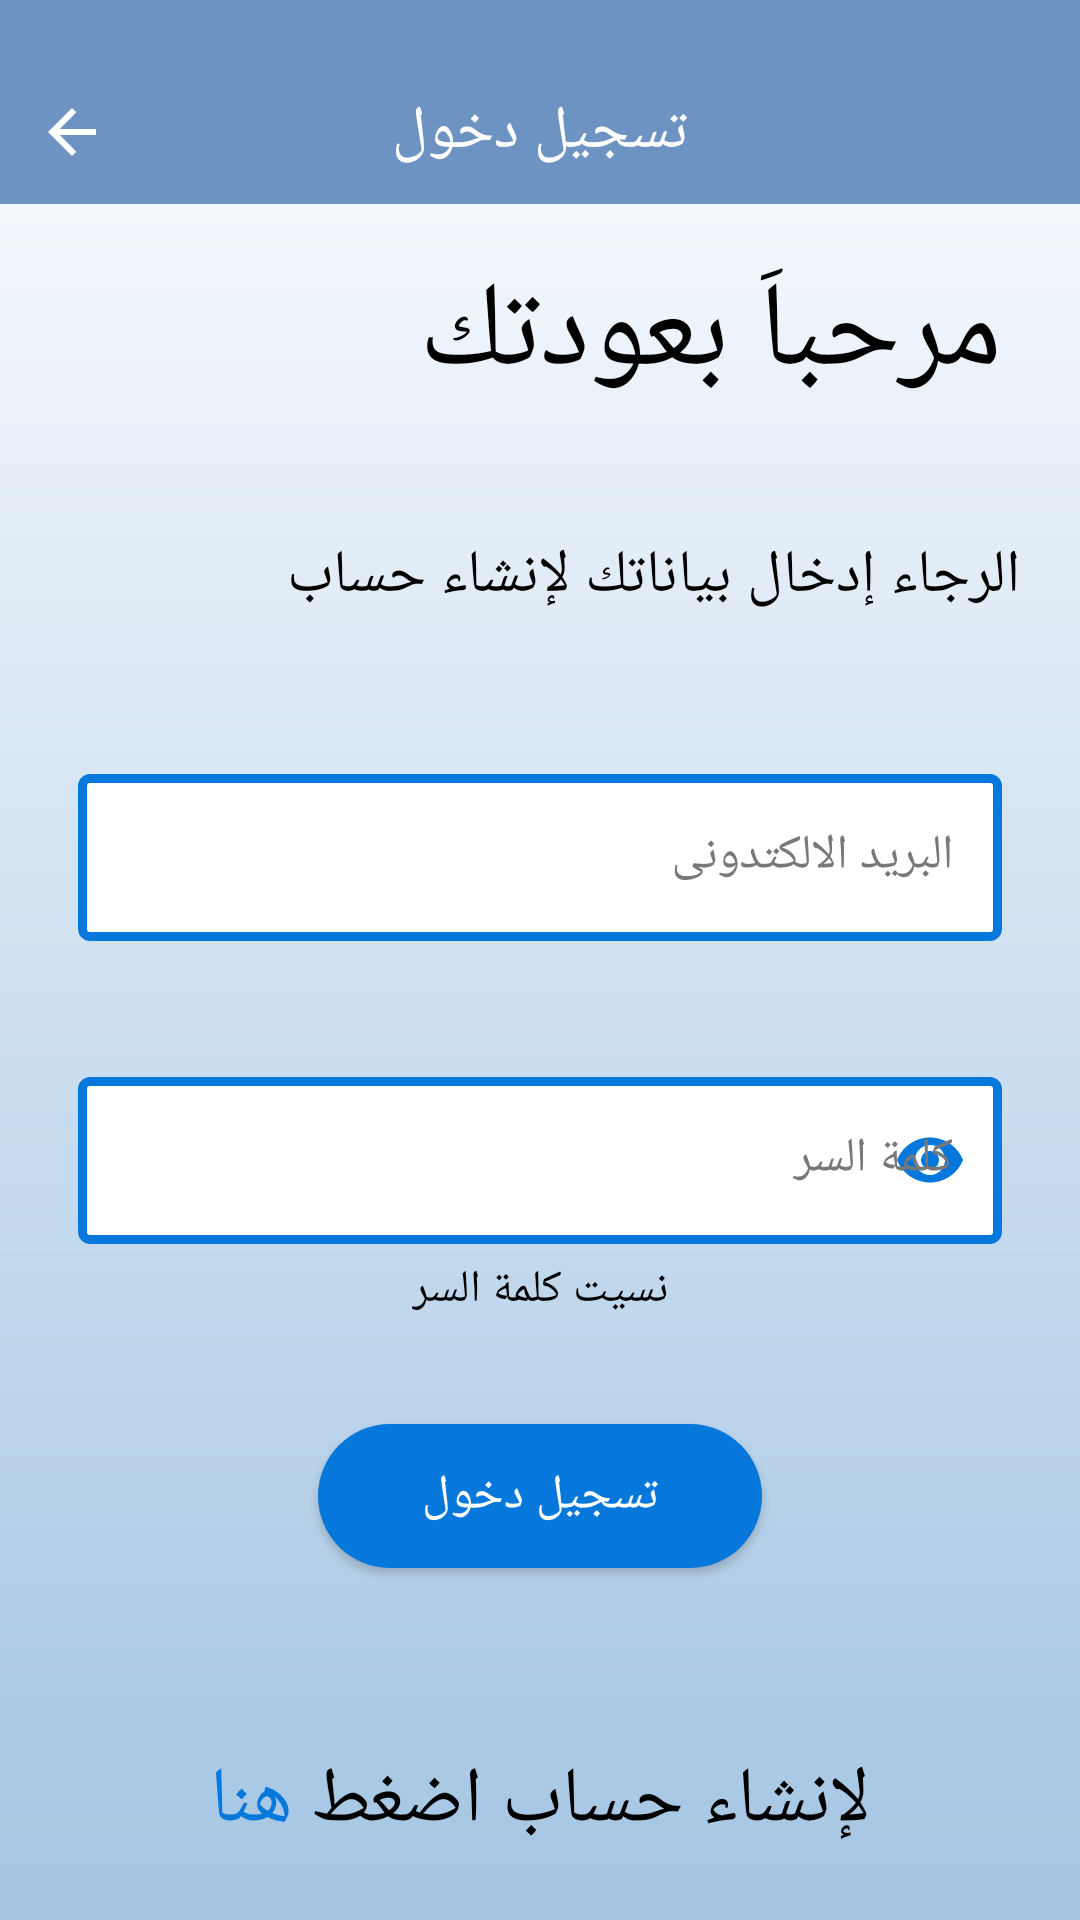

Icon bounding boxes for this 1080x1920 phone screenshot, format [x1, y1, x2, y2]:
back arrow: [48, 108, 96, 156]
